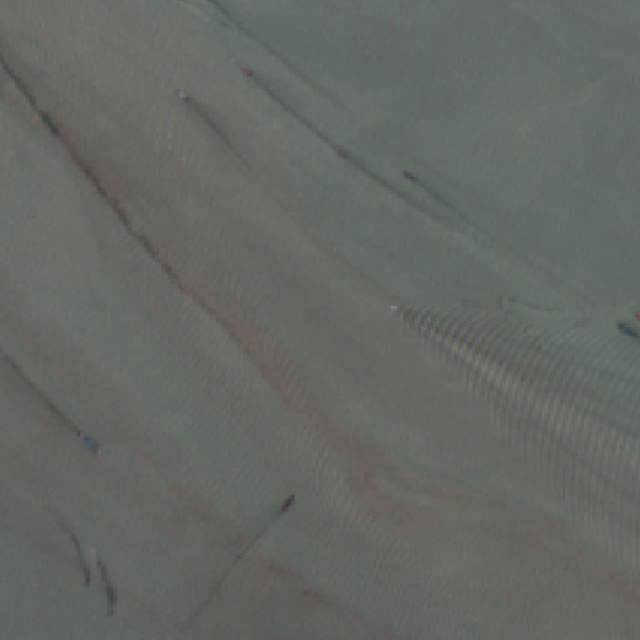wake: (343, 232, 627, 476)
